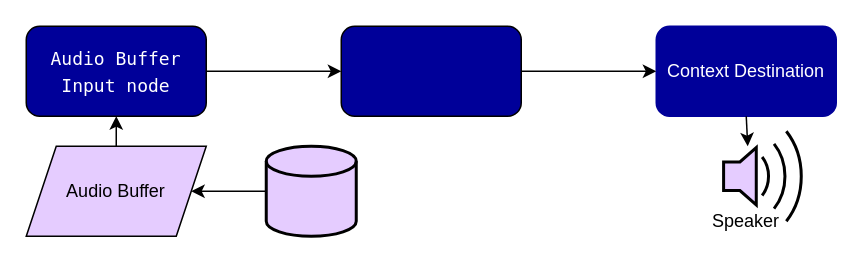
The diagram is 863 pixels wide and 264 high, and some of its shapes have lost their labels. The centre of each missing label's shape, as x and y in pixels:
"File tau.mp3" goes at pixel 310 190.
"IIR Filter Node" goes at pixel 430 70.
